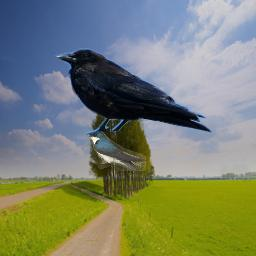Crow: (54, 48, 213, 136)
Swallow: (88, 130, 146, 171)
